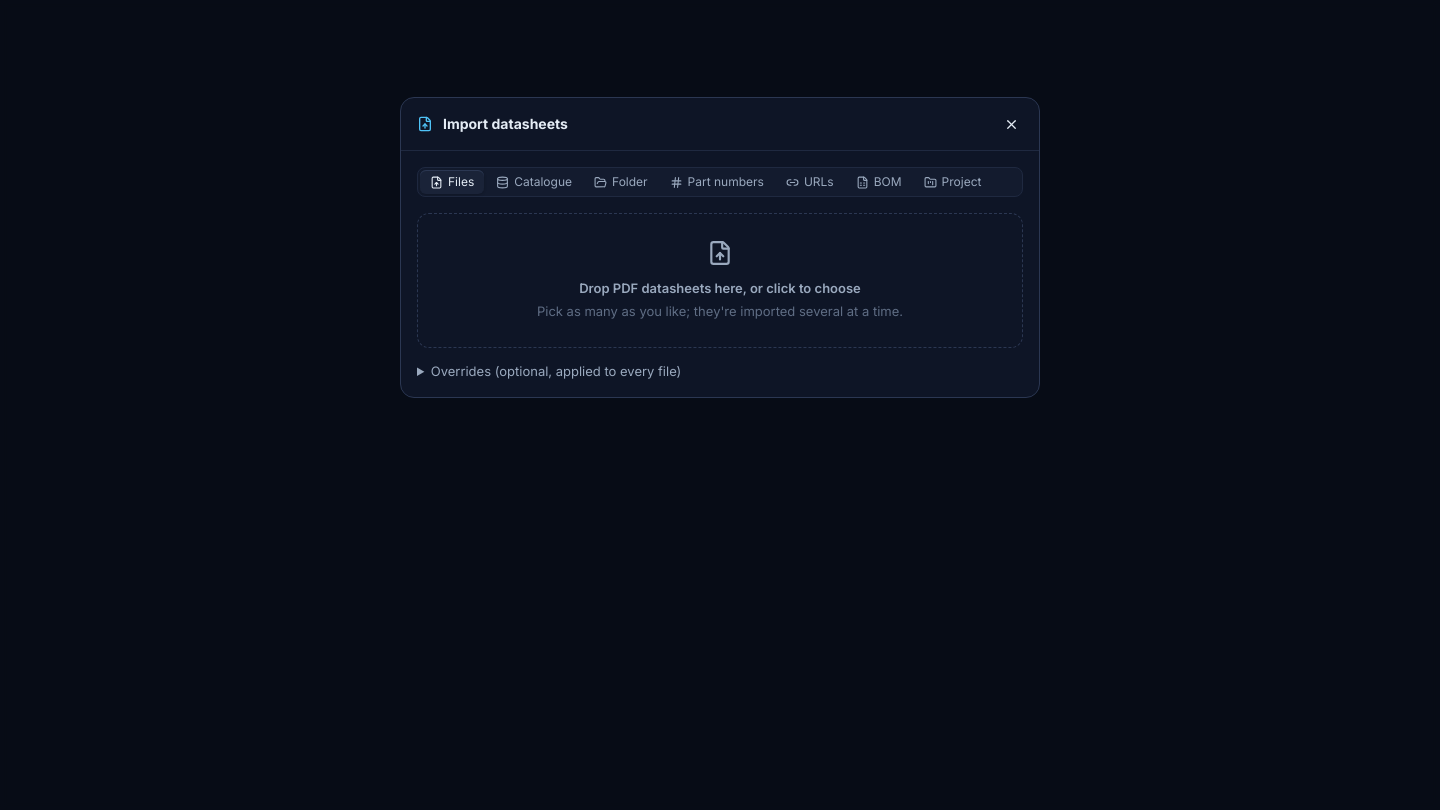
ImportDialog › searches the catalogue when it is downloaded
This screenshot has width=1440, height=810.
Click the tab "Catalogue": (534, 182) [486,170,582,194]
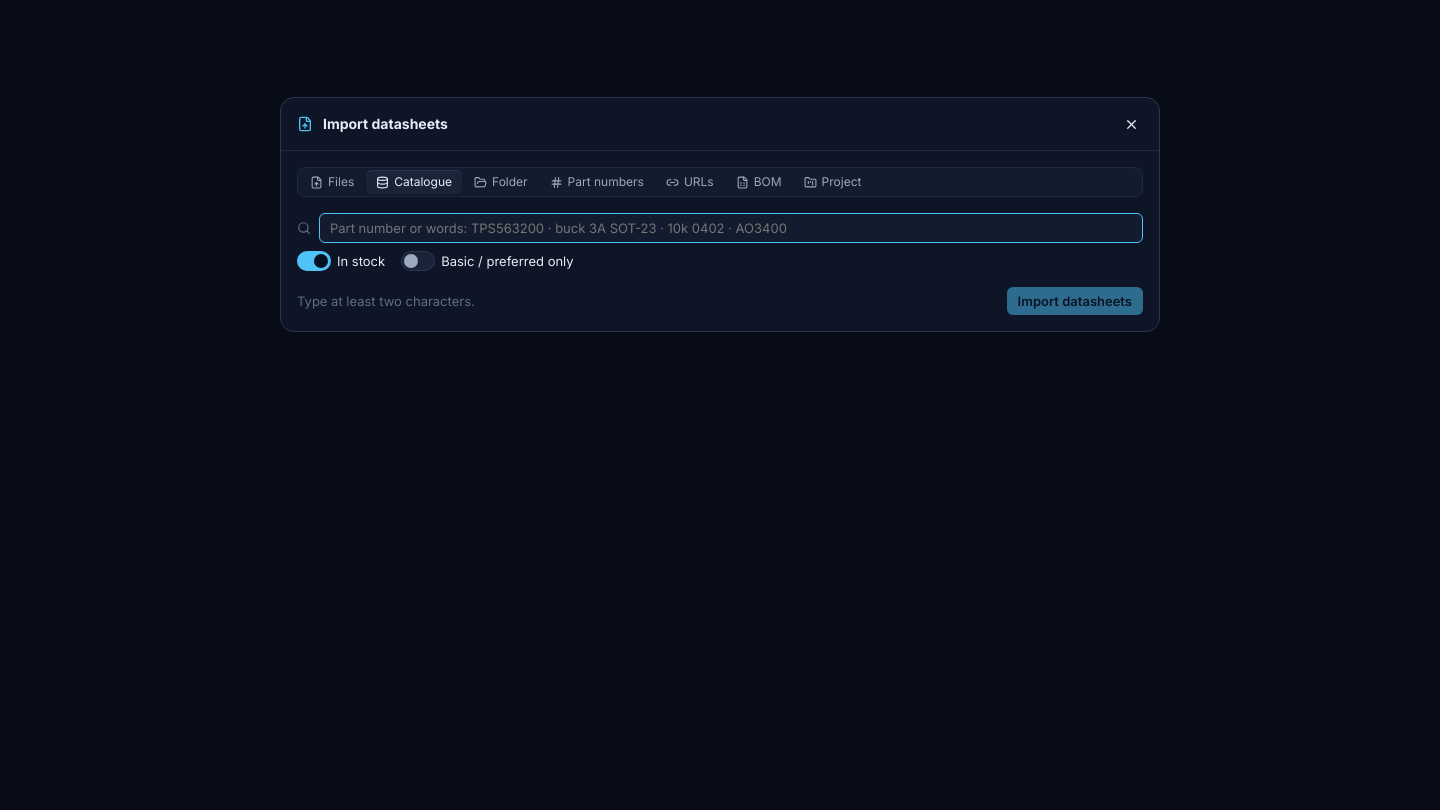
Replace the text in the field with "TP4056": (731, 228) [319,213,1143,243]
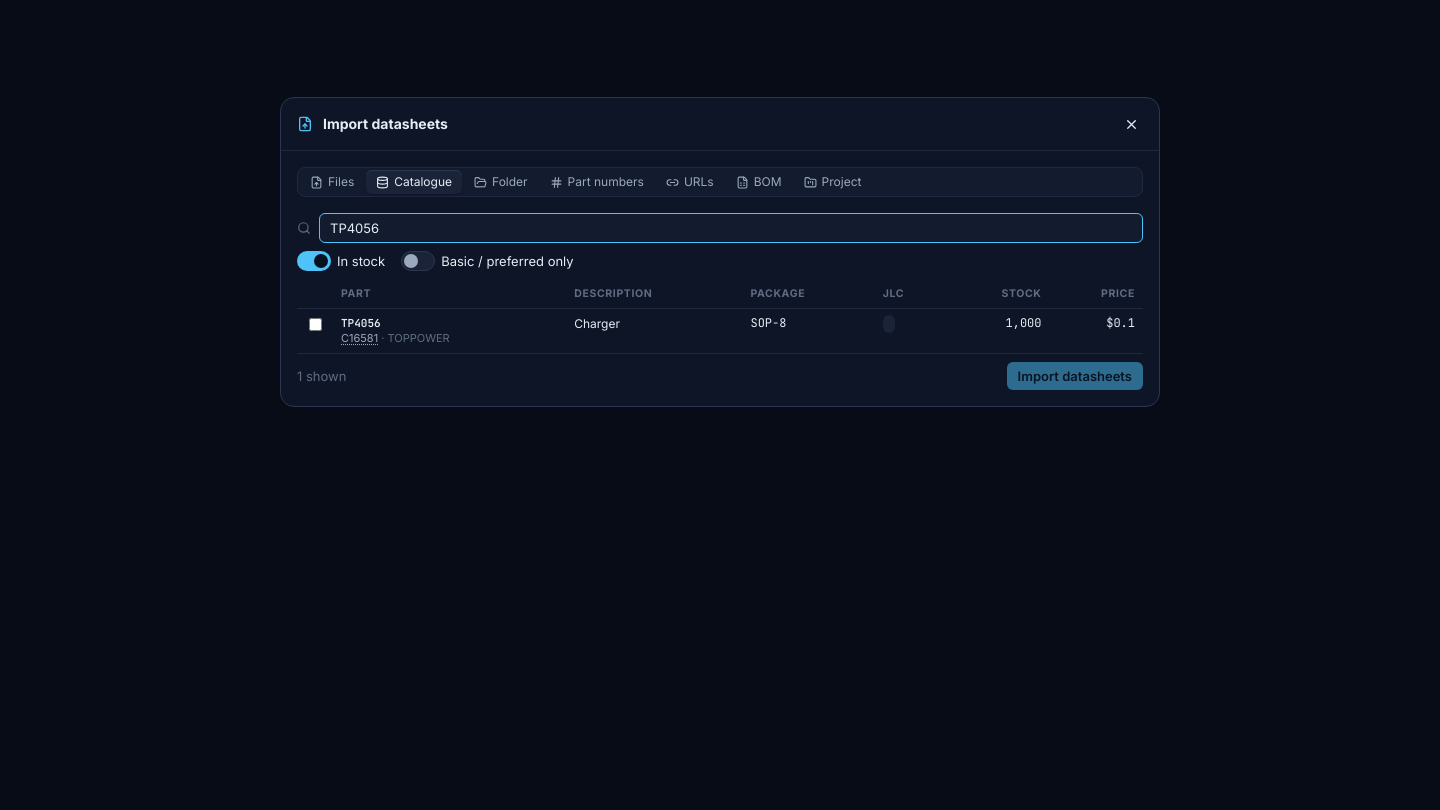
Expected: the text "TP4056" is shown, [341,316,381,330]
